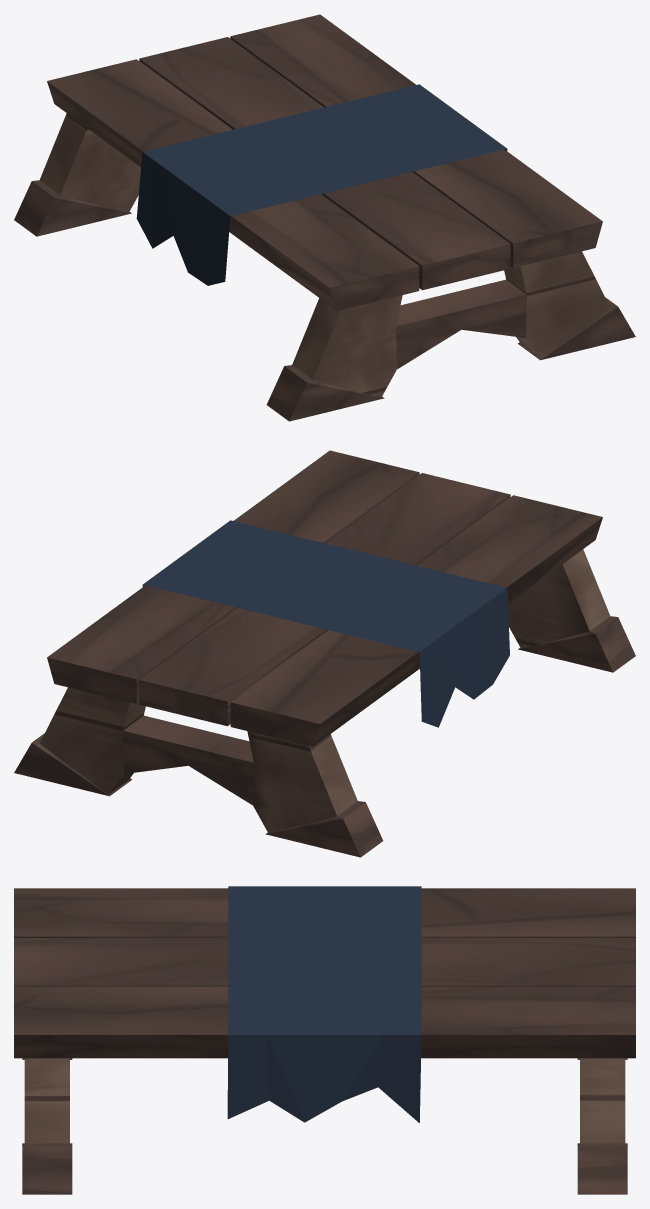
Rendered from Table 02.fbx.
3 views of the same model, one above another, from view 1: azimuth 30°, elevation 25°; view 2: azimuth 150°, elevation 25°; view 3: azimuth 270°, elevation 25° (orthographic). The views are drawn at different scales.
Visible parts, largest first — view 1: Table 02; view 2: Table 02; view 3: Table 02.
Boxes of the visible parts, <box> form: Table 02: <box>14,14,635,421</box>; Table 02: <box>14,450,635,857</box>; Table 02: <box>14,886,635,1194</box>.
Bounding box in the file's own units: 303 × 107 × 428.
